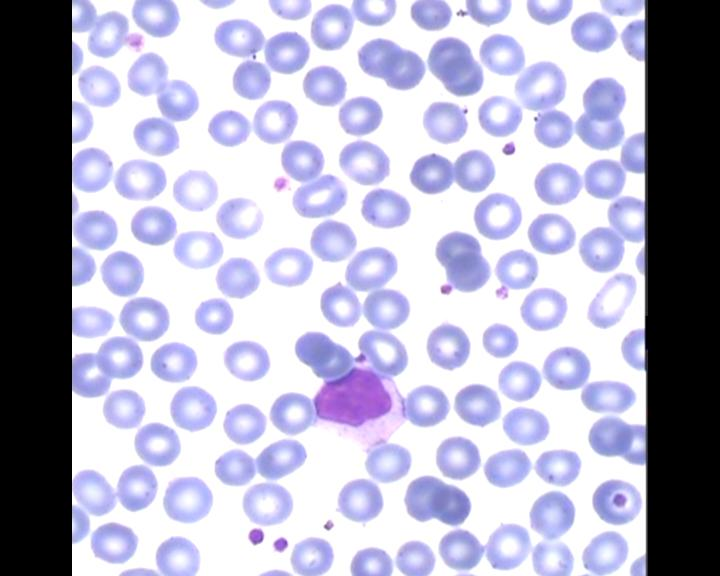mono: (311, 350, 407, 450)
